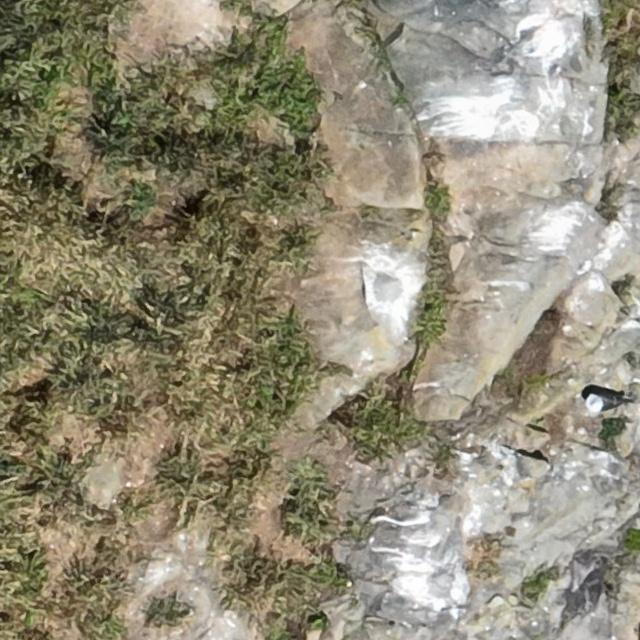umineko: (584, 393, 620, 412)
